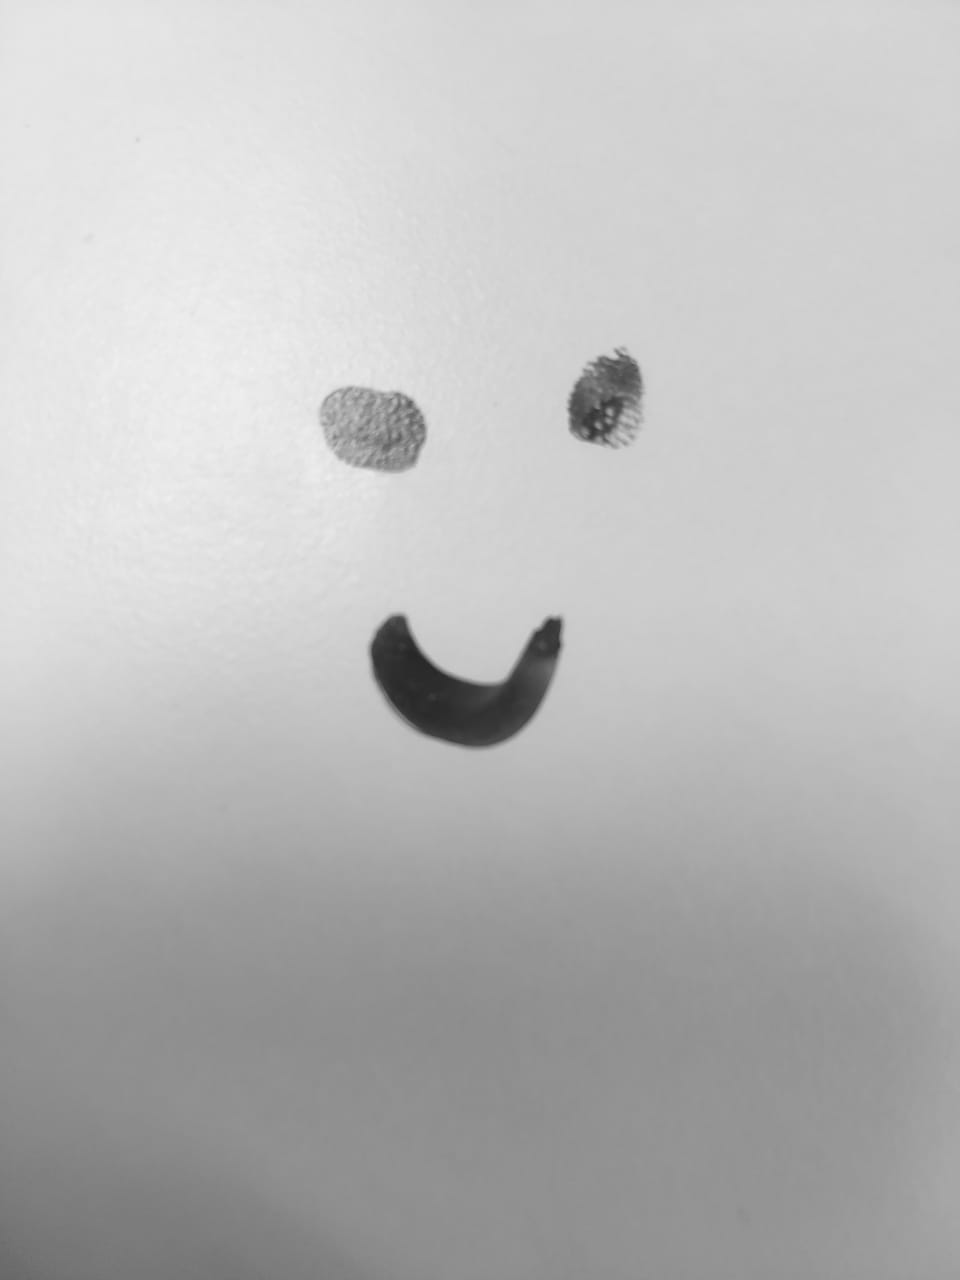feliz: (303, 339, 690, 776)
